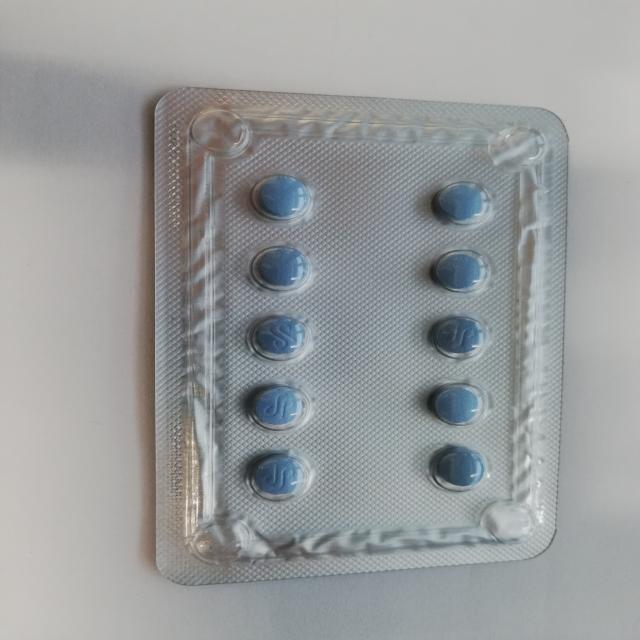Pill: (239, 239, 320, 299), (232, 443, 316, 499), (241, 171, 322, 228), (233, 379, 315, 435), (239, 307, 317, 362), (415, 174, 494, 226), (422, 310, 500, 360), (417, 378, 489, 432), (420, 247, 492, 297), (422, 440, 491, 490)
